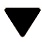dialog_hint: (4, 6, 42, 38)
